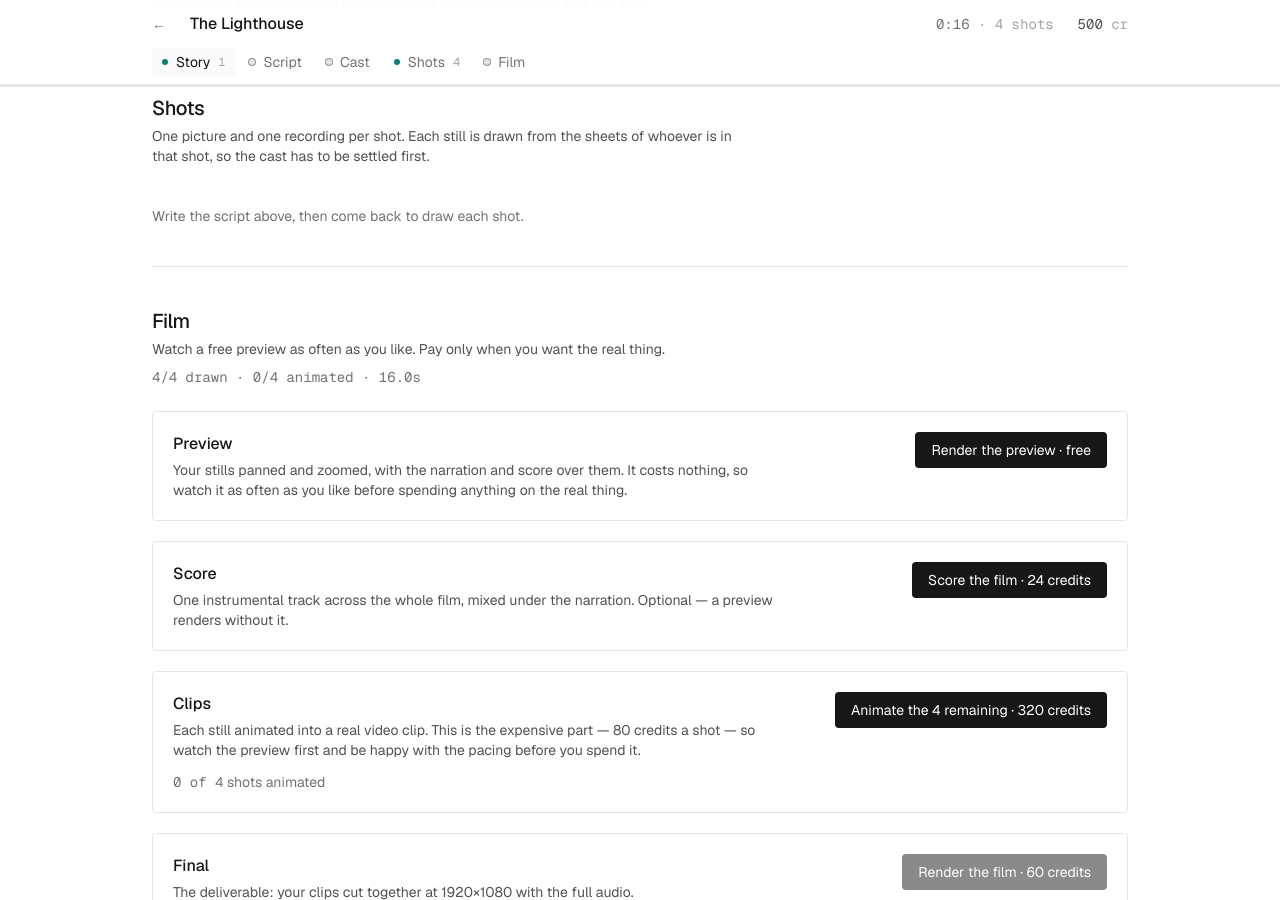
Test case: StudioPage › shows the reason an action was refused
This screenshot has width=1280, height=900.
(page scrolled)
Click the button "Render the preview · free" at coordinates (1011, 450), box [916,432,1107,468]
(page scrolled)
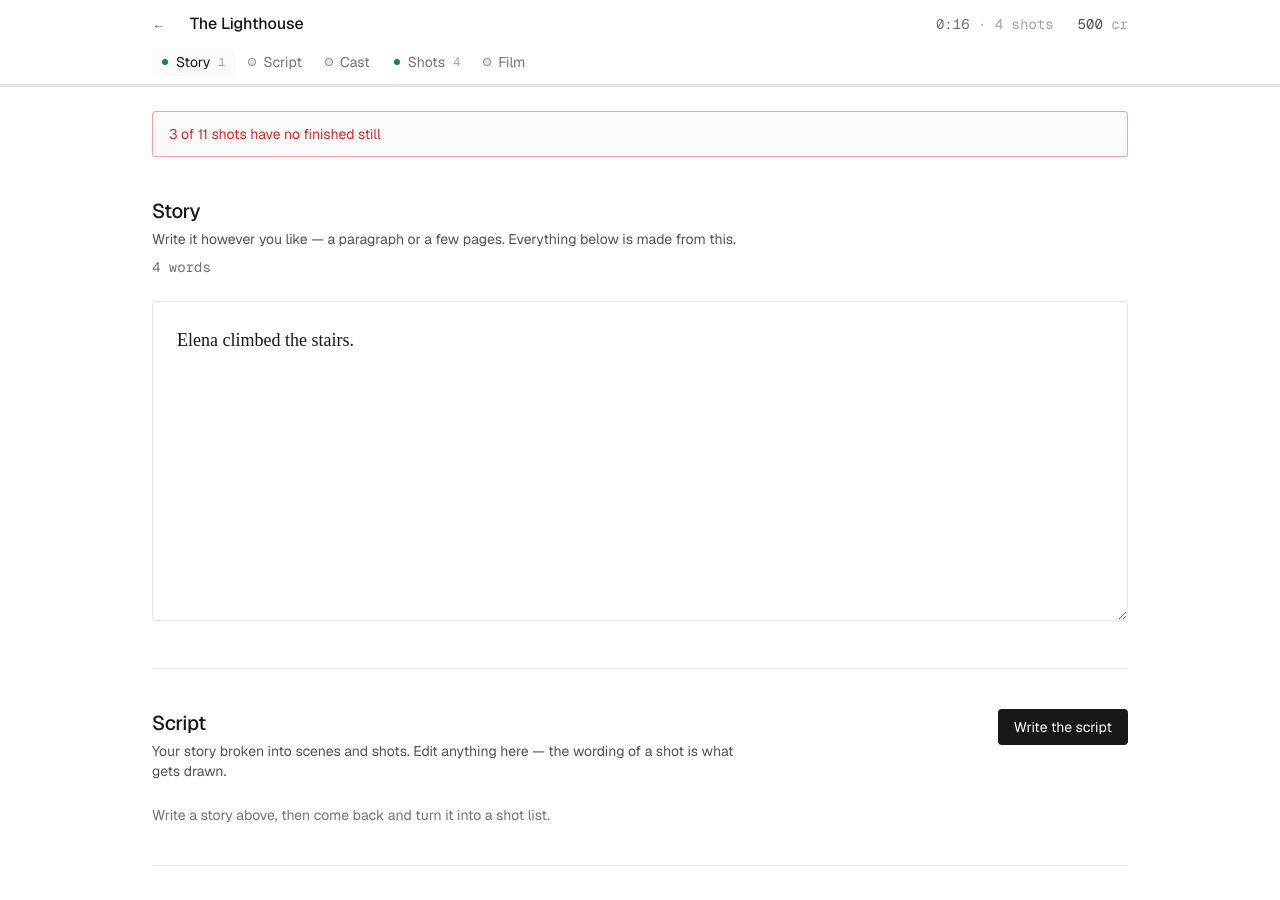
Expected: the message "3 of 11 shots have no finished still" is shown, [152,111,1128,157]
